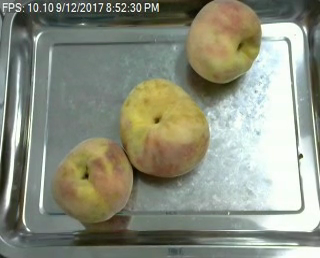Peach: (119, 77, 209, 178), (52, 136, 134, 225), (185, 0, 262, 84)
